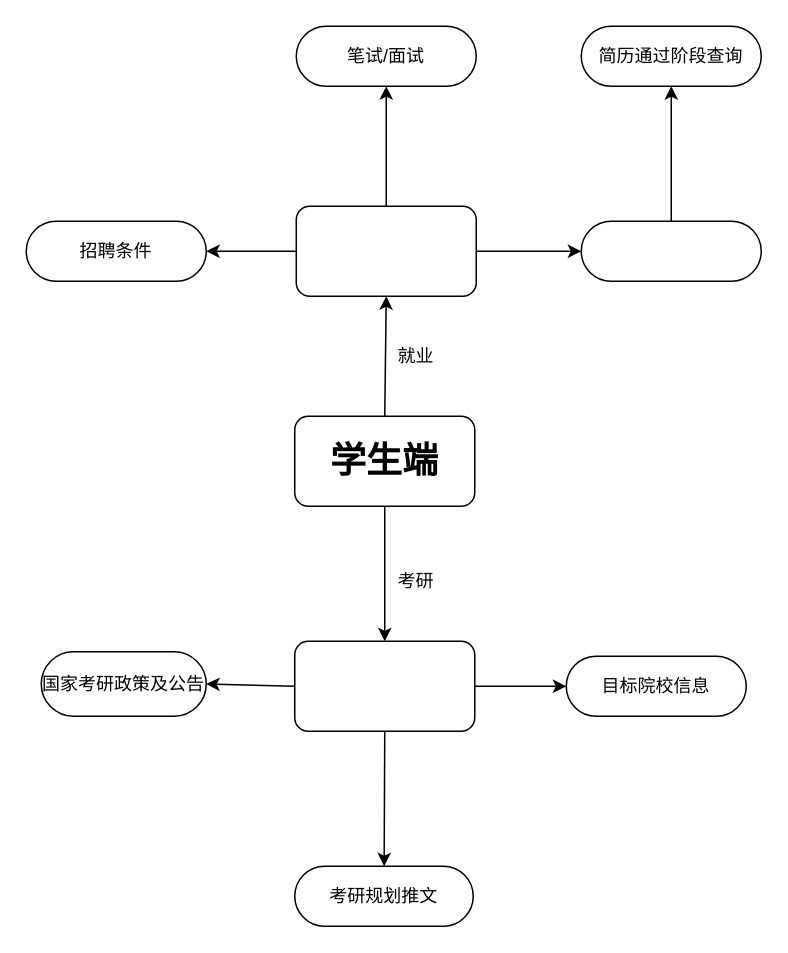
Image size: 788x953. Some labels were removed from this diagram. Each missing label, with the box of its shape:
投递简历: (580, 220, 761, 281)
校招企业信息: (295, 205, 476, 296)
考研院校及信息: (293, 640, 475, 731)
